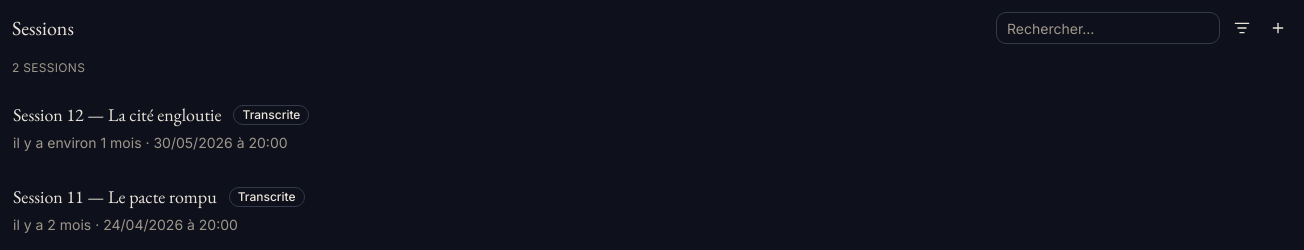
Scenario: <SessionLibrary> › search filters by title substring (accent/case-insensitive) after debounce
The width and height of the screenshot is (1304, 250).
In the search field named "Rechercher une session": point(1108, 28) left=996, top=12, right=1220, bottom=44, type "PACTE"
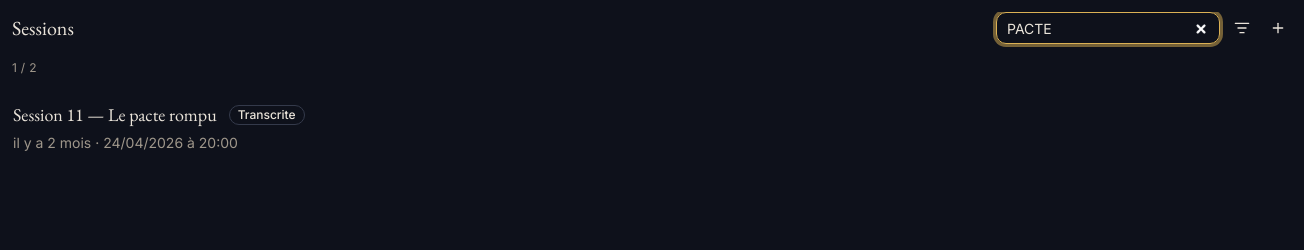
Expected: the heading "Session 11 — Le pacte rompu" is shown, left=13, top=101, right=217, bottom=129
Expected: the link "Session 12 — La cité engloutie" is gone
